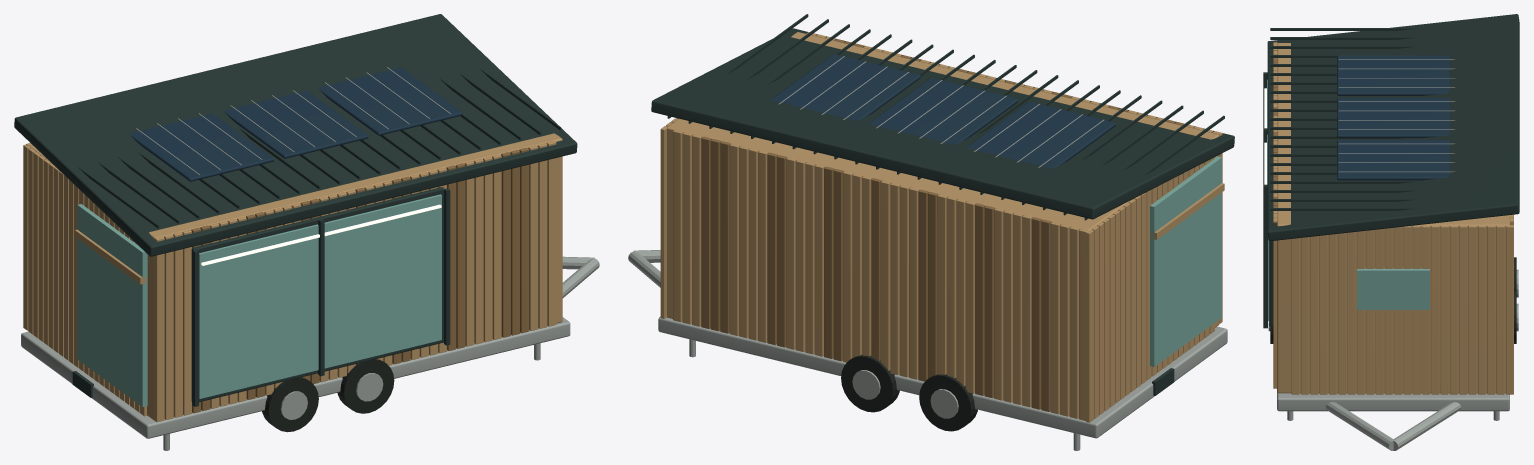
Rendered from tiny_millhome.glb.
3 renders of one model, left to right at view 1: azimuth 30°, elevation 25°; view 2: azimuth 150°, elevation 25°; view 3: azimuth 270°, elevation 25°, orthographic. The views are drawn at different scales.
Visible parts, largest first — view 1: tiny_millhome_Antracitový falcovaný plech.007, tiny_millhome_Panoramatické zasklení.003, tiny_millhome_Modřín – přírodní dřevo.004, tiny_millhome_Monokrystalické fotovoltaické články.004, tiny_millhome_Pozinkovaný podvozek.005, tiny_millhome_Dřevo – tmavší lamely.006, tiny_millhome_Pneumatiky podvozku.003, tiny_millhome_Teplá světla oken a festonů.003; view 2: tiny_millhome_Modřín – přírodní dřevo.004, tiny_millhome_Antracitový falcovaný plech.007, tiny_millhome_Dřevo – tmavší lamely.006, tiny_millhome_Monokrystalické fotovoltaické články.004, tiny_millhome_Pozinkovaný podvozek.005, tiny_millhome_Panoramatické zasklení.003, tiny_millhome_Pneumatiky podvozku.003; view 3: tiny_millhome_Modřín – přírodní dřevo.004, tiny_millhome_Antracitový falcovaný plech.007, tiny_millhome_Monokrystalické fotovoltaické články.004, tiny_millhome_Pozinkovaný podvozek.005, tiny_millhome_Panoramatické zasklení.003, tiny_millhome_Pneumatiky podvozku.003.
Boxes of the visible parts, x1,y1,x2,y2 form: tiny_millhome_Antracitový falcovaný plech.007: (14, 14, 577, 406); tiny_millhome_Panoramatické zasklení.003: (77, 194, 441, 406); tiny_millhome_Modřín – přírodní dřevo.004: (23, 133, 562, 422); tiny_millhome_Monokrystalické fotovoltaické články.004: (130, 67, 462, 181); tiny_millhome_Pozinkovaný podvozek.005: (21, 67, 599, 450); tiny_millhome_Dřevo – tmavší lamely.006: (191, 147, 528, 413); tiny_millhome_Pneumatiky podvozku.003: (262, 359, 394, 432); tiny_millhome_Teplá světla oken a festonů.003: (201, 204, 441, 265); tiny_millhome_Modřín – přírodní dřevo.004: (660, 32, 1224, 422); tiny_millhome_Antracitový falcovaný plech.007: (651, 14, 1234, 395); tiny_millhome_Dřevo – tmavší lamely.006: (701, 39, 1184, 411); tiny_millhome_Monokrystalické fotovoltaické články.004: (771, 54, 1115, 168); tiny_millhome_Pozinkovaný podvozek.005: (628, 56, 1227, 450); tiny_millhome_Panoramatické zasklení.003: (1150, 156, 1221, 366); tiny_millhome_Pneumatiky podvozku.003: (841, 354, 977, 431); tiny_millhome_Modřín – přírodní dřevo.004: (1273, 42, 1513, 394); tiny_millhome_Antracitový falcovaný plech.007: (1263, 14, 1519, 328); tiny_millhome_Monokrystalické fotovoltaické články.004: (1337, 55, 1449, 180); tiny_millhome_Pozinkovaný podvozek.005: (1268, 59, 1518, 450); tiny_millhome_Panoramatické zasklení.003: (1267, 79, 1429, 320); tiny_millhome_Pneumatiky podvozku.003: (1270, 257, 1516, 343).
Size of the model in its own units: 8.2 by 3.81 by 3.85.
